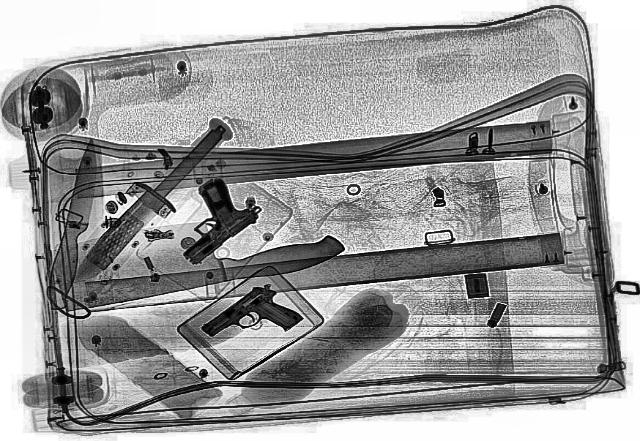Gun: (134, 174, 274, 266), (197, 280, 315, 358)
Knife: (35, 199, 352, 313), (61, 118, 233, 290), (42, 137, 106, 302)
